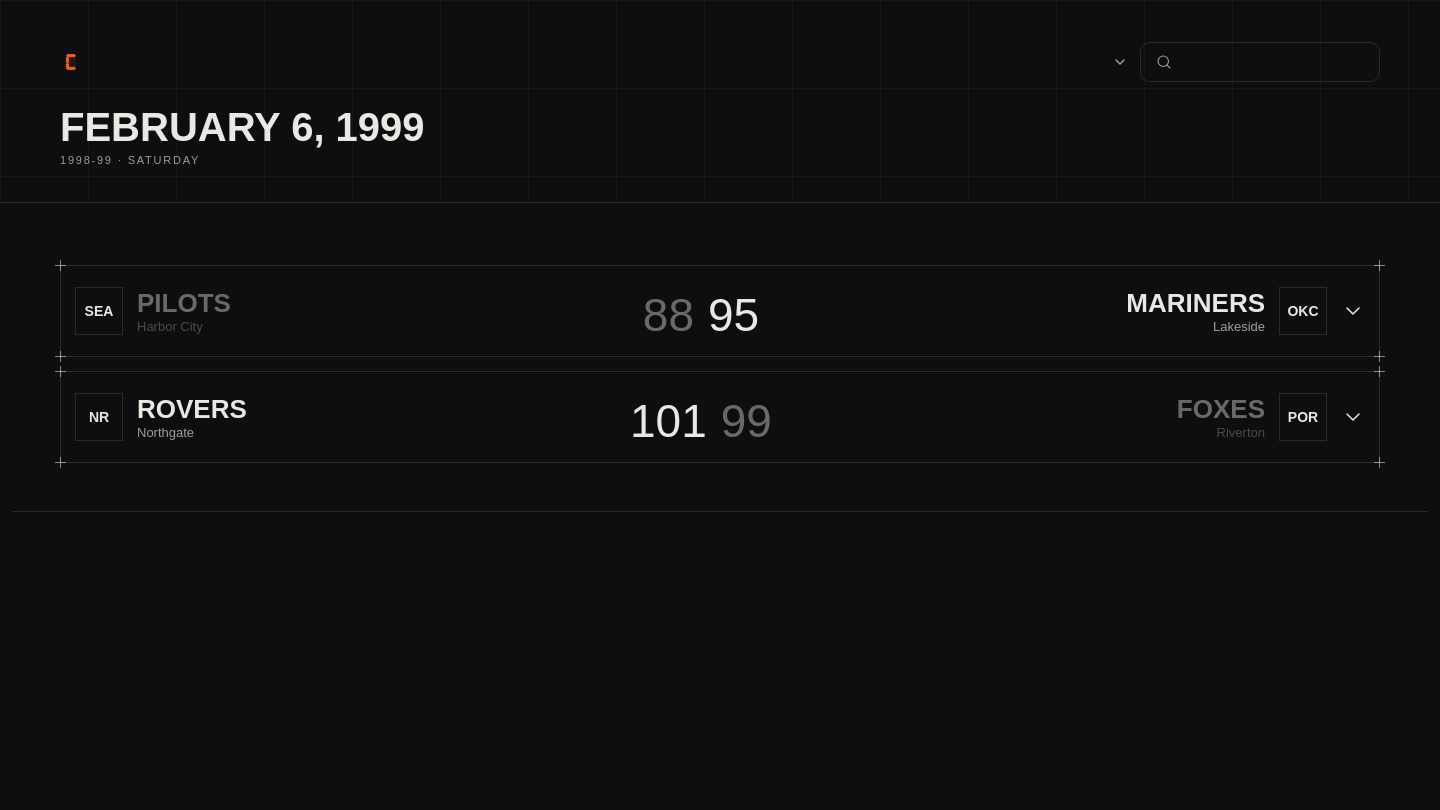
Test: DayPage › opens one card at a time
Click the button with class "toggle" that starts with "SEA": x=720, y=311 x1=61 y1=266 x2=1379 y2=356
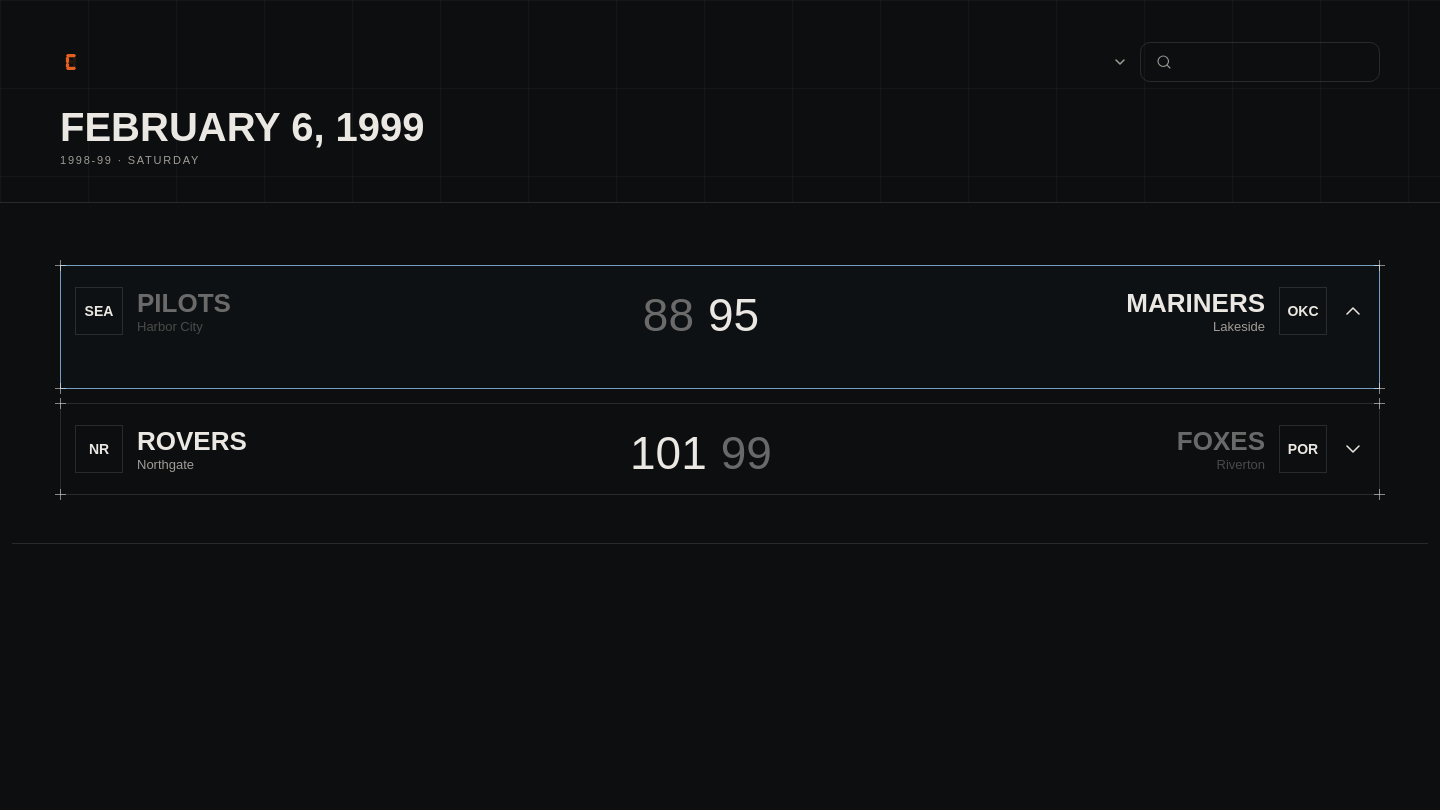
Click the button with class "toggle" that starts with "Rovers": x=720, y=466 x1=61 y1=421 x2=1379 y2=511
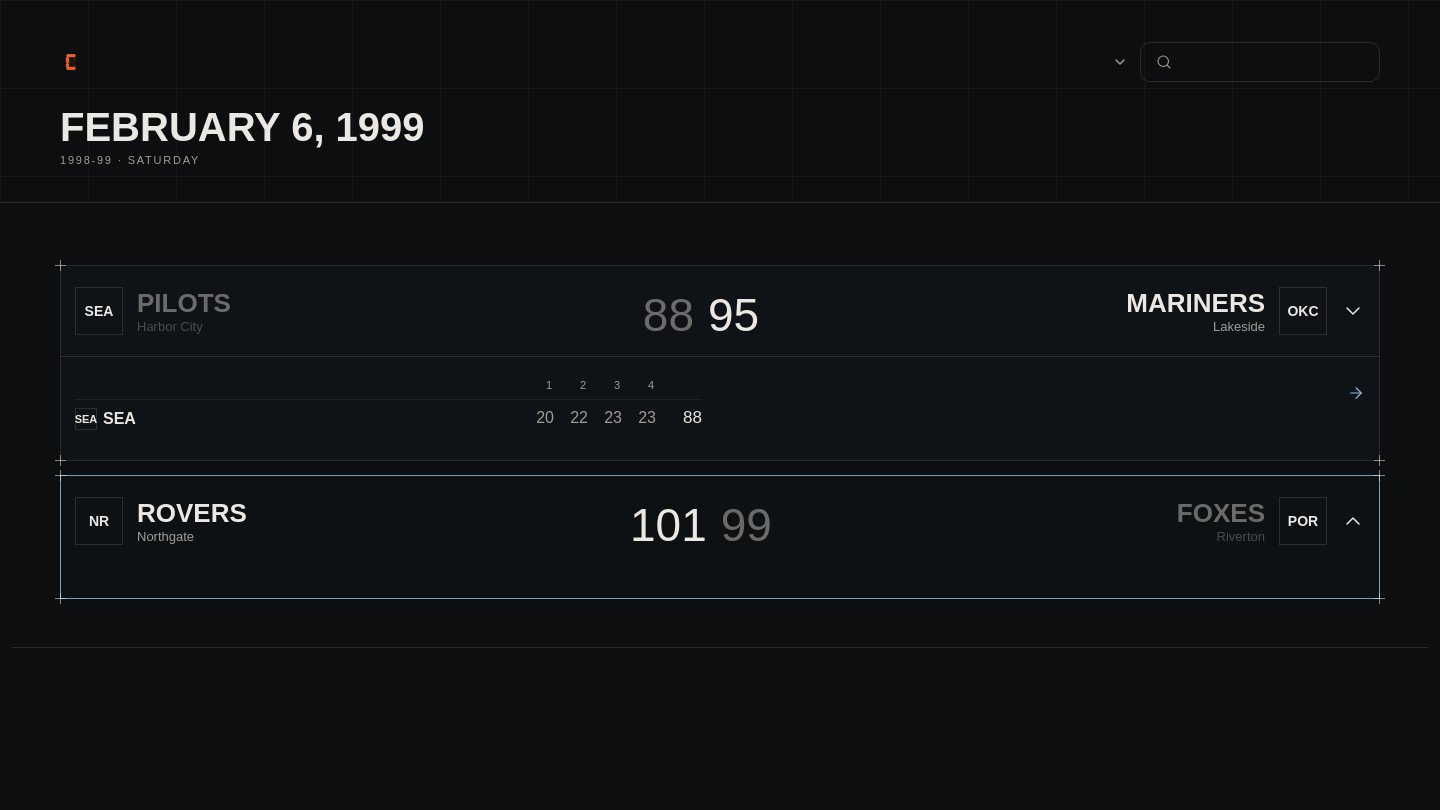
Check: the button with class "toggle" is collapsed, box x1=61 y1=266 x2=1379 y2=356
Check: the button with class "toggle" is expanded, box x1=61 y1=459 x2=1379 y2=549
